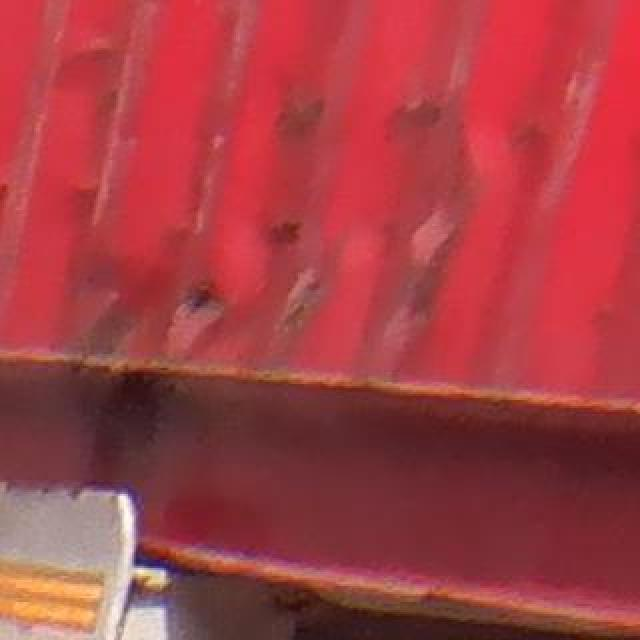dent: (1, 207, 569, 355)
